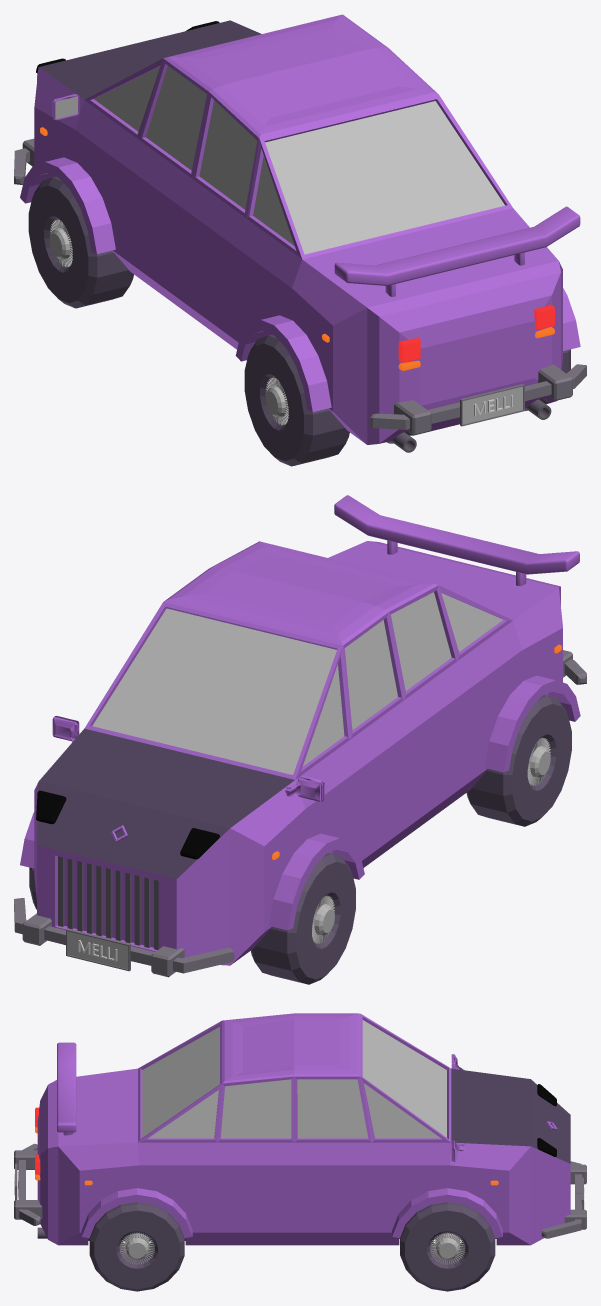
File: car2_1.fbx
3 renders of one model, top to bottom at view 1: azimuth 30°, elevation 25°; view 2: azimuth 150°, elevation 25°; view 3: azimuth 270°, elevation 25°, orthographic. The views are drawn at different scales.
Visible parts, largest first — view 1: Cube, Null_2, Tube, Tube_2, Cube_2_6, Cube_1, Cube_2, Cube_4_3, Cube_3_2, mirror; view 2: Cube, Null_2, Tube, Tube_2, Cube_2_6, Cube_1_2, Cube_3_3, Cube_1_4, Cube_2_2, mirror; view 3: Cube, Tube_3, Tube_4, Null_2, Cube_2_6, Cube_1_2, Cube_2, Cube_1, Cube_2_2, Cylinder_4, Cylinder_3, Cube_1_4.
Part boxes in pixels (box(x1,y1,x2,y2)): Cube: box(34, 14, 562, 444); Null_2: box(20, 157, 580, 411); Tube: box(28, 176, 133, 308); Tube_2: box(244, 334, 349, 466); Cube_2_6: box(334, 206, 580, 285); Cube_1: box(369, 364, 586, 429); Cube_2: box(394, 364, 572, 435); Cube_4_3: box(460, 384, 524, 426); Cube_3_2: box(398, 304, 554, 362); mirror: box(52, 94, 79, 120); Cube: box(34, 541, 562, 965); Null_2: box(20, 675, 580, 930); Tube: box(251, 853, 355, 984); Tube_2: box(466, 695, 571, 826); Cube_2_6: box(334, 495, 579, 574); Cube_1_2: box(14, 898, 234, 973); Cube_3_3: box(66, 928, 130, 971); Cube_1_4: box(36, 790, 219, 859); Cube_2_2: box(22, 913, 184, 977); mirror: box(52, 716, 324, 801); Cube: box(37, 1013, 570, 1245); Tube_3: box(400, 1202, 495, 1291); Tube_4: box(89, 1202, 184, 1291); Null_2: box(81, 1188, 502, 1237); Cube_2_6: box(57, 1042, 76, 1132); Cube_1_2: box(541, 1161, 582, 1238); Cube_2: box(14, 1150, 42, 1219); Cube_1: box(18, 1143, 40, 1225); Cube_2_2: box(564, 1164, 586, 1229); Cylinder_4: box(125, 1233, 149, 1259); Cylinder_3: box(435, 1233, 459, 1259); Cube_1_4: box(537, 1084, 556, 1156).
Bounding box in the file's own units: 284 × 283 × 720.
